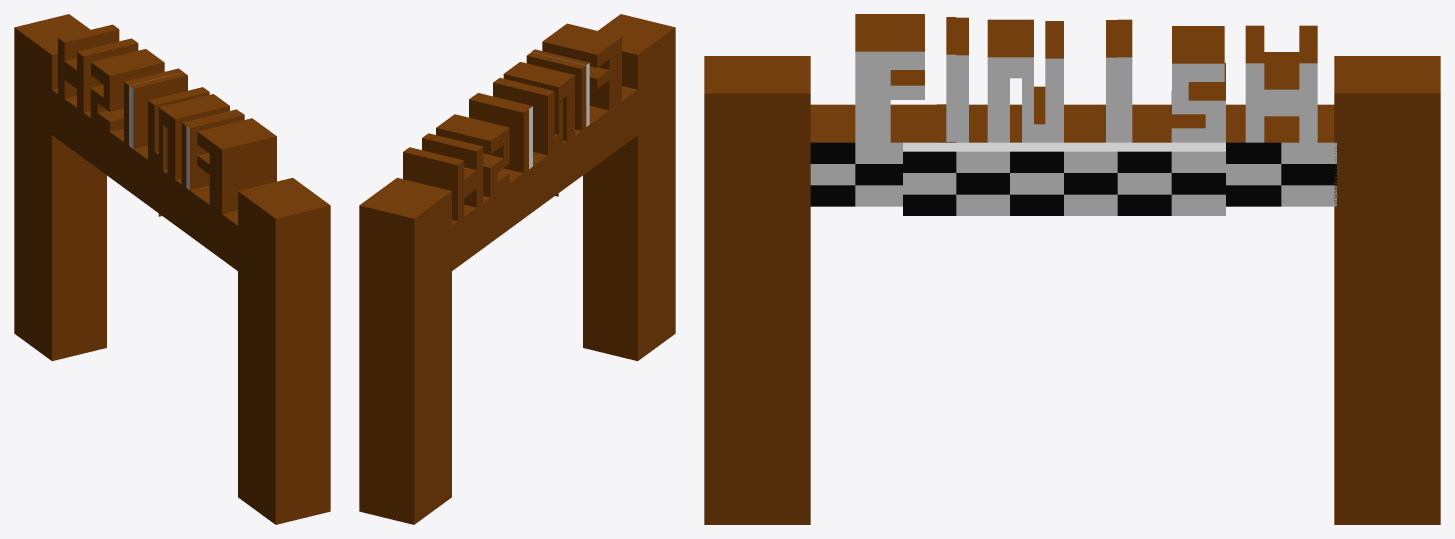
File: finish.fbx
The picture shows the model from 3 angles, left to right: view 1: azimuth 30°, elevation 25°; view 2: azimuth 150°, elevation 25°; view 3: azimuth 270°, elevation 25°; orthographic projection. The views are drawn at different scales.
Visible parts, largest first — view 1: Plane; view 2: Plane; view 3: Plane.
Part boxes in pixels (x1,y1,x2,y2): Plane: (14, 14, 330, 524); Plane: (359, 14, 675, 524); Plane: (704, 14, 1440, 524).
Bounding box in the file's own units: 87.82 × 413 × 582.
